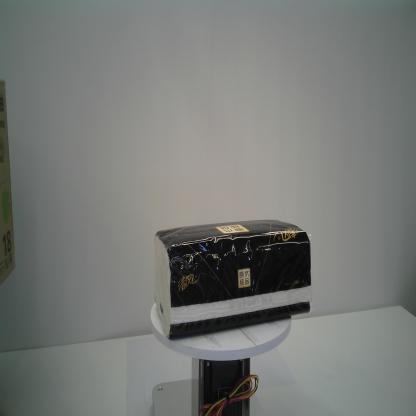Tissue: (153, 218, 313, 341)
